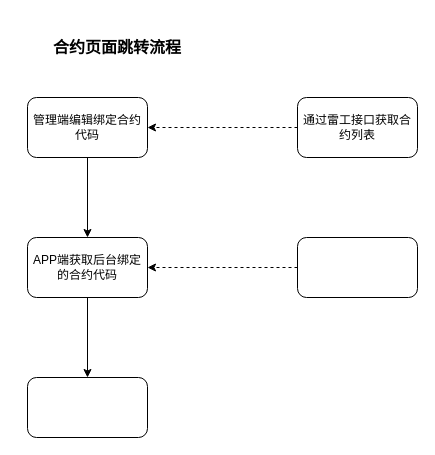
Some shapes in this 435 by 455 pixel diagram are drawn without their labels. The shapes that lost their labels are listed below. From the top down, each one's centre as x and y in pixels, then its label:
At [357,267]: "APP端通过js函数调用wtGetHQInfo完成代码转换".
At [87,407]: "APP端使用转换后的代码拼接跳转url".
